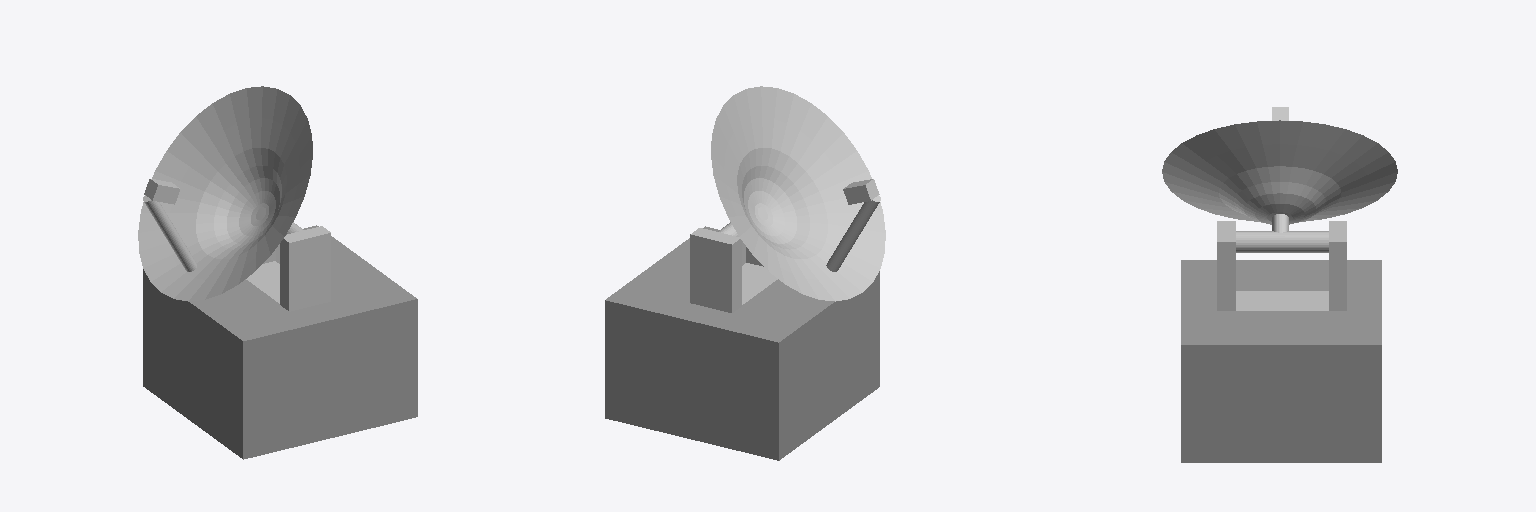
File: comSatellite.obj
3 views of the same model, side by side, from view 1: azimuth 30°, elevation 25°; view 2: azimuth 150°, elevation 25°; view 3: azimuth 270°, elevation 25° (orthographic).
Parts seen in each view (by area): view 1: Cube, Dish_Sphere.001, Base_Cube.001; view 2: Cube, Dish_Sphere.001, Base_Cube.001; view 3: Cube, Dish_Sphere.001, Base_Cube.001.
Boxes of the visible parts, <box> form: Cube: <box>143,225,417,459</box>; Dish_Sphere.001: <box>138,86,312,301</box>; Base_Cube.001: <box>246,222,330,311</box>; Cube: <box>605,226,879,460</box>; Dish_Sphere.001: <box>711,86,885,301</box>; Base_Cube.001: <box>690,222,777,312</box>; Cube: <box>1181,260,1381,462</box>; Dish_Sphere.001: <box>1162,107,1397,232</box>; Base_Cube.001: <box>1217,221,1346,310</box>.
Size of the model in its own units: 3.97 by 5.16 by 3.62.